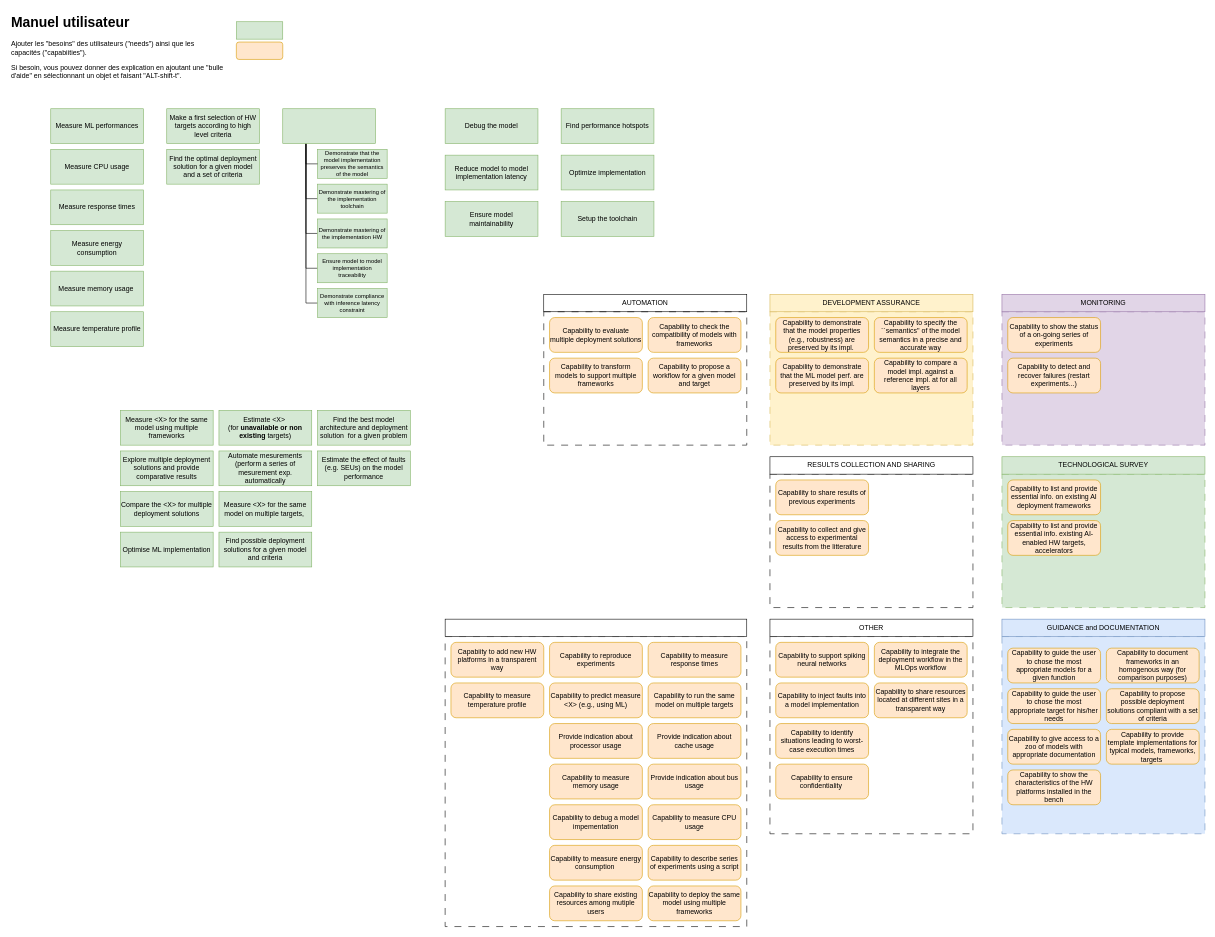
Some shapes in this 1215 by 937 pixel diagram are drawn without their labels. Each missing label, with the centre of its shape:
A capability: point (259, 50)
A need: point (259, 30)
BASIC CAPABILITIES: point (596, 628)
Provide the evidences required by certification: point (329, 126)
